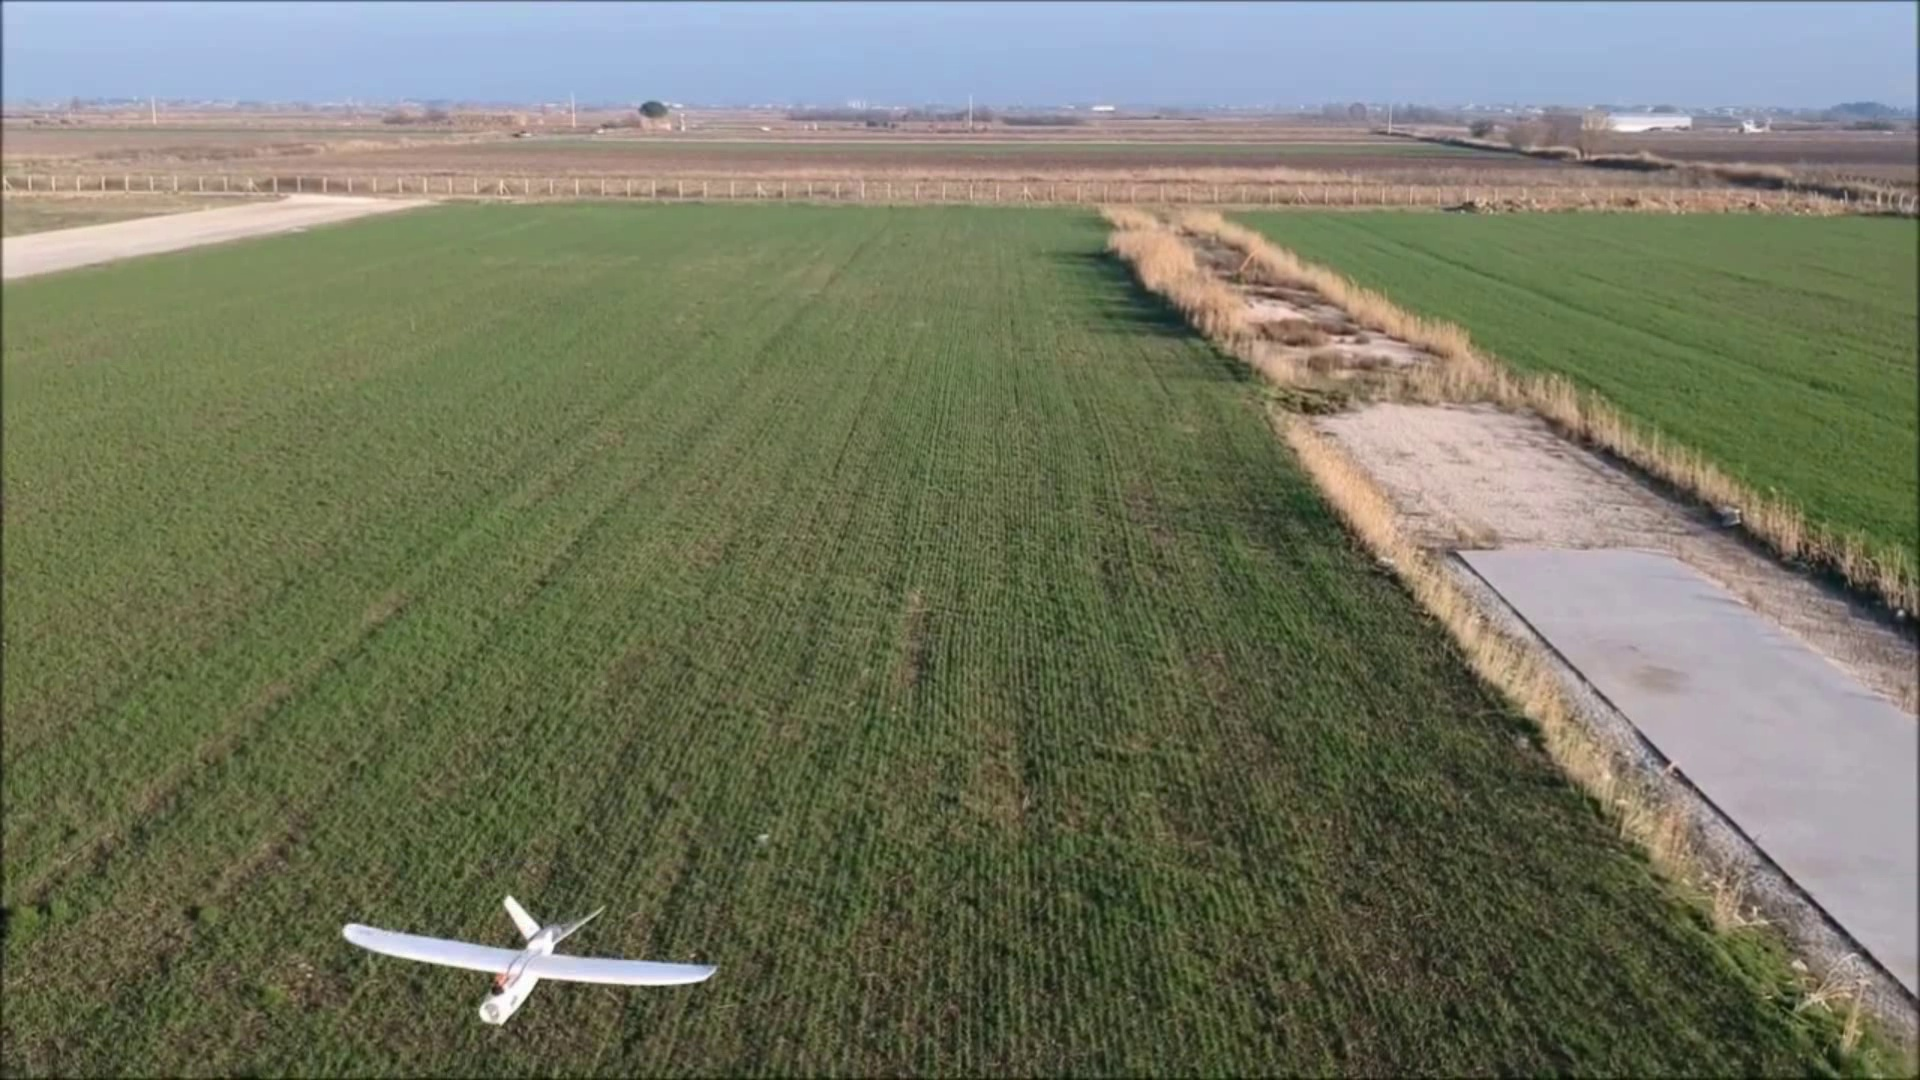airplane: (343, 896, 717, 1032)
